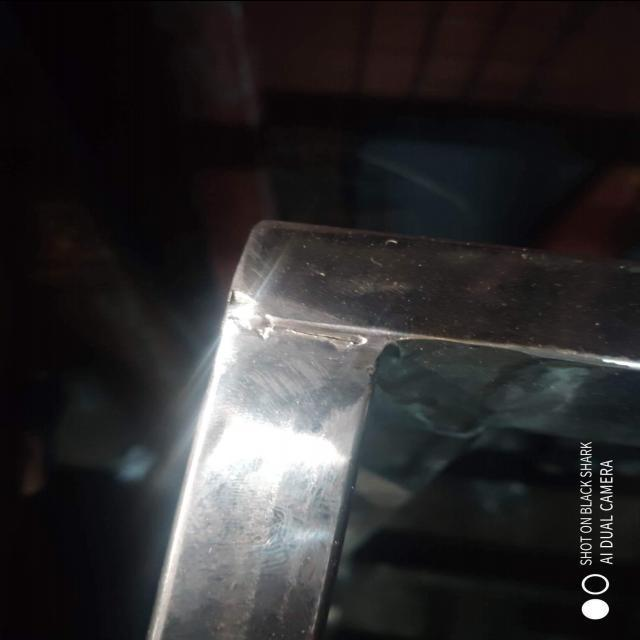Crack: (270, 324, 363, 344)
